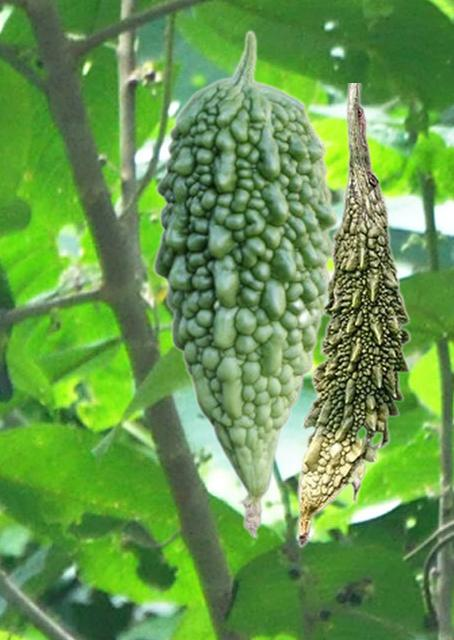ampalaya: (151, 29, 338, 539), (296, 83, 411, 548)
